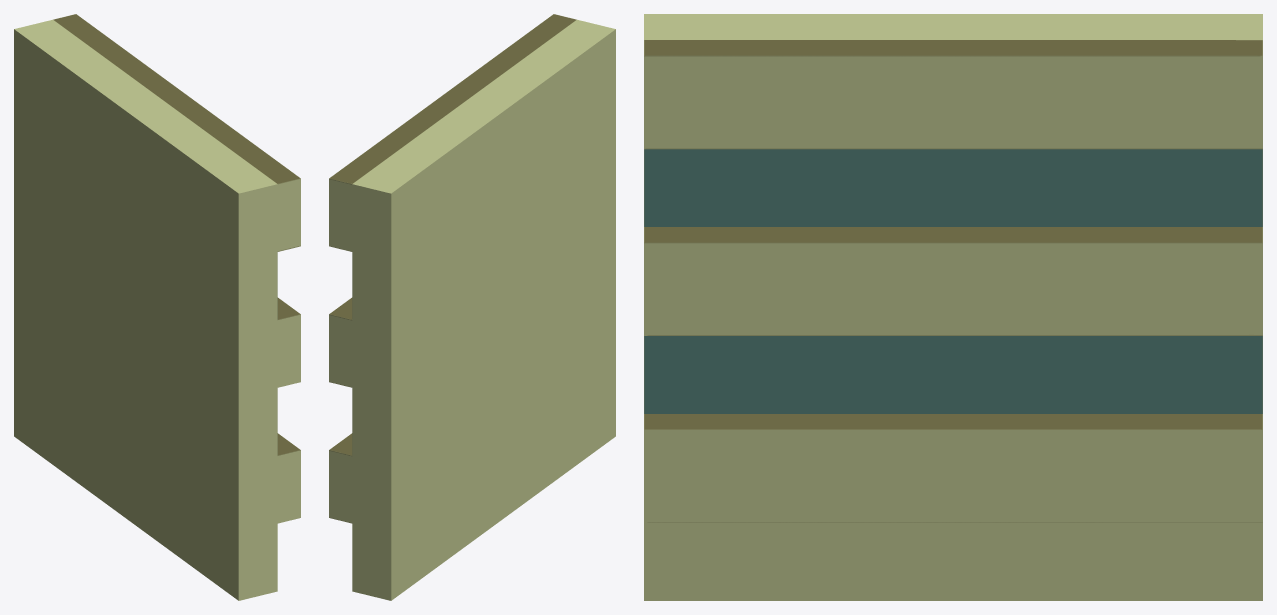
Rendered from modularWall-Set4.fbx.
3 renders of one model, left to right at view 1: azimuth 30°, elevation 25°; view 2: azimuth 150°, elevation 25°; view 3: azimuth 270°, elevation 25°, orthographic. The views are drawn at different scales.
Parts seen in each view (by area): view 1: Cube.004; view 2: Cube.004; view 3: Cube.004.
Part boxes in pixels (bbox=[...]): Cube.004: bbox=[14, 14, 300, 600]; Cube.004: bbox=[329, 14, 615, 600]; Cube.004: bbox=[644, 14, 1262, 600].
Bounding box in the file's own units: 79.79 × 500 × 500.
